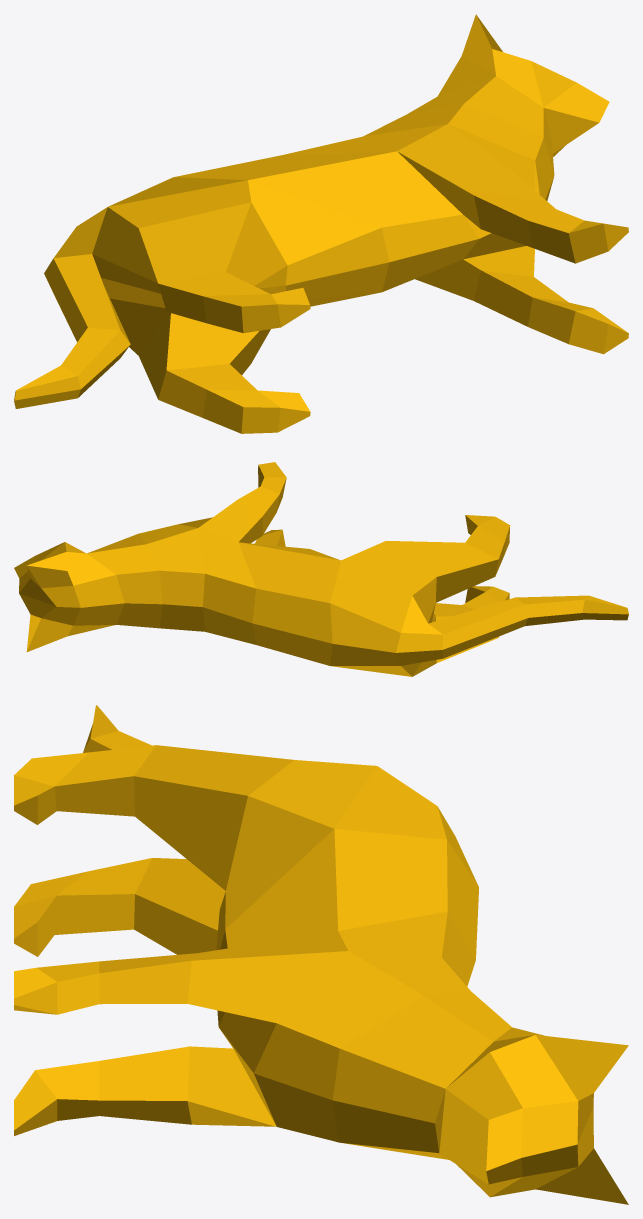
Rendered from tessst.fbx.
3 views of the same model, one above another, from view 1: azimuth 30°, elevation 25°; view 2: azimuth 150°, elevation 25°; view 3: azimuth 270°, elevation 25° (orthographic). The views are drawn at different scales.
Visible parts, largest first — view 1: ORIGAMI_Chat; view 2: ORIGAMI_Chat; view 3: ORIGAMI_Chat.
Part boxes in pixels (x1,y1,x2,y2): ORIGAMI_Chat: [14, 14, 628, 433]; ORIGAMI_Chat: [14, 462, 628, 676]; ORIGAMI_Chat: [14, 705, 628, 1204].
Bounding box in the file's own units: 309 × 63.44 × 176.
